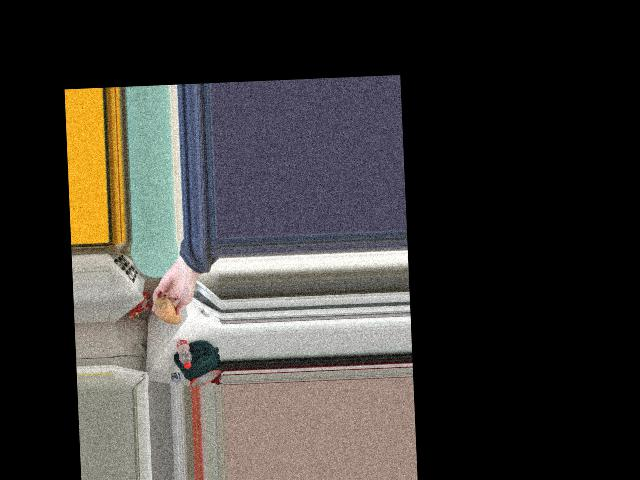sweet_potato: (156, 292, 184, 325)
